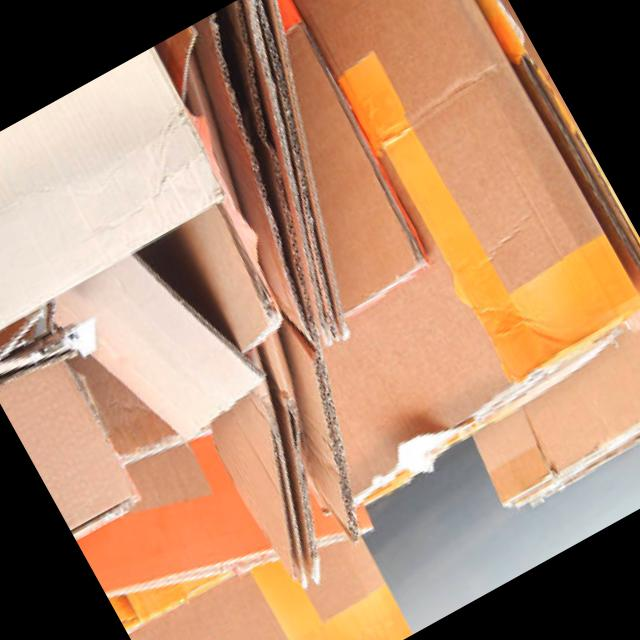Kardus: (0, 0, 640, 640), (85, 0, 540, 553)
